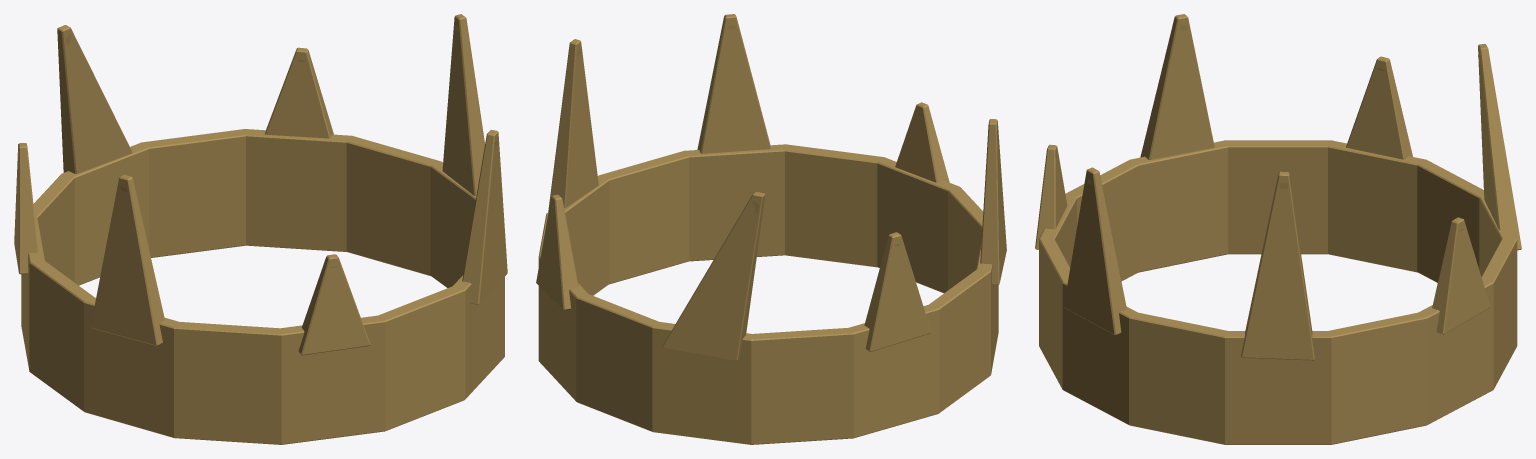
File: crown.glb
3 renders of one model, left to right at view 1: azimuth 30°, elevation 25°; view 2: azimuth 150°, elevation 25°; view 3: azimuth 270°, elevation 25°, orthographic. The views are drawn at different scales.
Visible parts, largest first — view 1: Crown; view 2: Crown; view 3: Crown.
Boxes of the visible parts, box(x1,y1,x2,y2) form: Crown: box(14, 14, 507, 444); Crown: box(536, 14, 1006, 444); Crown: box(1035, 14, 1521, 444).
Bounding box in the file's own units: 0.1795 × 0.1118 × 0.1831.
